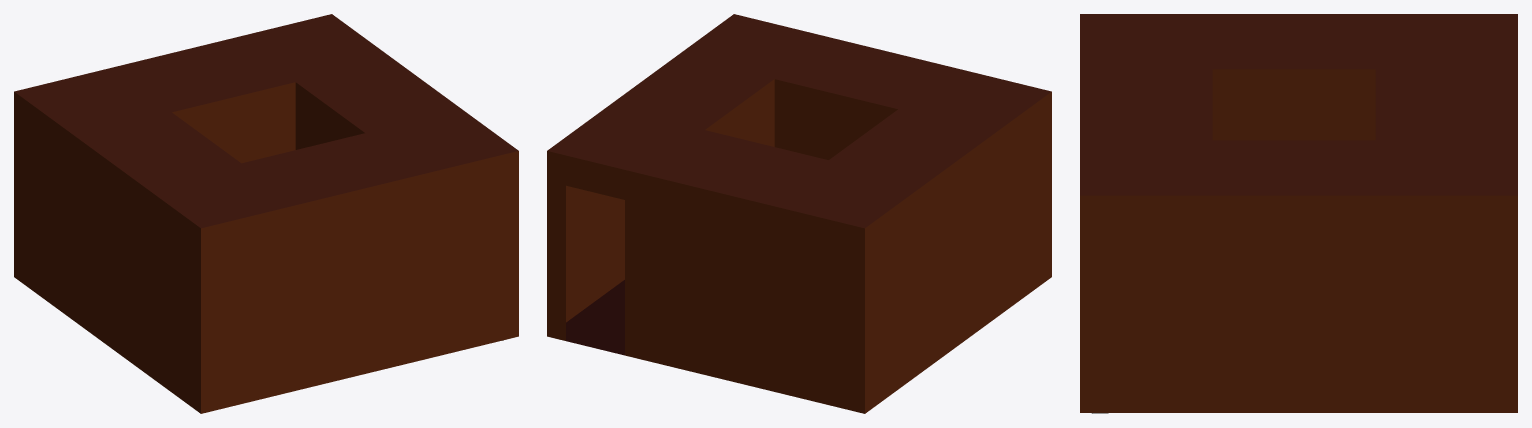
The model's file is room_5_3.glb.
The picture shows the model from 3 angles, left to right: view 1: azimuth 30°, elevation 25°; view 2: azimuth 150°, elevation 25°; view 3: azimuth 270°, elevation 25°; orthographic projection. The views are drawn at different scales.
Visible parts, largest first — view 1: komnata_5_2_; view 2: komnata_5_2_; view 3: komnata_5_2_.
Part boxes in pixels (box(x1,y1,x2,y2)): komnata_5_2_: box(14, 14, 518, 413); komnata_5_2_: box(547, 14, 1051, 413); komnata_5_2_: box(1080, 14, 1517, 412).
Size of what is drawn, in the model's own units: 4.47 by 2.53 by 4.55.
3 materials, 1 textured.
